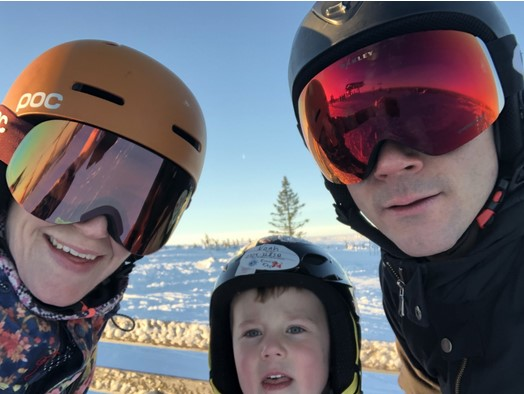face_no_mask: (223, 273, 330, 394)
